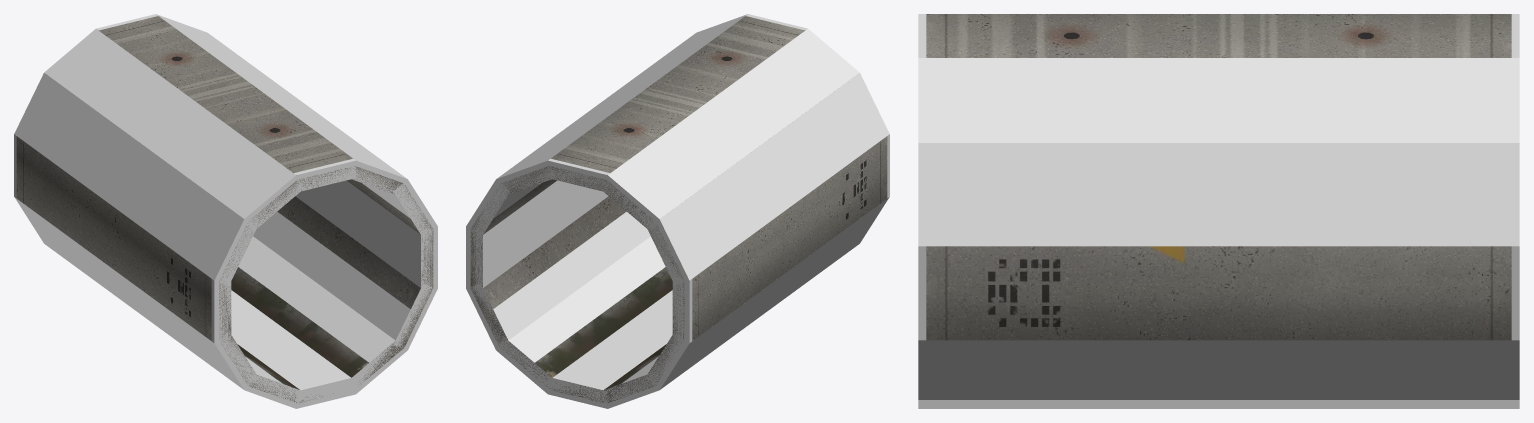
Rendered from Kit_Lot_Pipe_01.glb.
3 views of the same model, side by side, from view 1: azimuth 30°, elevation 25°; view 2: azimuth 150°, elevation 25°; view 3: azimuth 270°, elevation 25° (orthographic). The views are drawn at different scales.
Parts seen in each view (by area): view 1: Kit_Lot_Pipe_01_LOD0, COL_Kit_Lot_Pipe_01_5, COL_Kit_Lot_Pipe_01_4, COL_Kit_Lot_Pipe_01_11, COL_Kit_Lot_Pipe_01_10, COL_Kit_Lot_Pipe_01_0, COL_Kit_Lot_Pipe_01_7, COL_Kit_Lot_Pipe_01_9, COL_Kit_Lot_Pipe_01_2, COL_Kit_Lot_Pipe_01_3, COL_Kit_Lot_Pipe_01_6, COL_Kit_Lot_Pipe_01_1 (+1 smaller); view 2: Kit_Lot_Pipe_01_LOD0, COL_Kit_Lot_Pipe_01_5, COL_Kit_Lot_Pipe_01_4, COL_Kit_Lot_Pipe_01_11, COL_Kit_Lot_Pipe_01_10, COL_Kit_Lot_Pipe_01_0, COL_Kit_Lot_Pipe_01_7, COL_Kit_Lot_Pipe_01_9, COL_Kit_Lot_Pipe_01_2, COL_Kit_Lot_Pipe_01_6, COL_Kit_Lot_Pipe_01_3, COL_Kit_Lot_Pipe_01_1 (+1 smaller); view 3: Kit_Lot_Pipe_01_LOD0, COL_Kit_Lot_Pipe_01_1, COL_Kit_Lot_Pipe_01_2, COL_Kit_Lot_Pipe_01_11, COL_Kit_Lot_Pipe_01_10, COL_Kit_Lot_Pipe_01_0, COL_Kit_Lot_Pipe_01_3.
Part boxes in pixels (left/top/right/bottom): Kit_Lot_Pipe_01_LOD0: left=16, top=16, right=433, bottom=402; COL_Kit_Lot_Pipe_01_5: left=14, top=73, right=258, bottom=285; COL_Kit_Lot_Pipe_01_4: left=44, top=29, right=303, bottom=231; COL_Kit_Lot_Pipe_01_11: left=253, top=211, right=437, bottom=349; COL_Kit_Lot_Pipe_01_10: left=238, top=236, right=407, bottom=393; COL_Kit_Lot_Pipe_01_0: left=295, top=180, right=437, bottom=292; COL_Kit_Lot_Pipe_01_7: left=14, top=197, right=258, bottom=390; COL_Kit_Lot_Pipe_01_9: left=231, top=290, right=355, bottom=408; COL_Kit_Lot_Pipe_01_2: left=156, top=14, right=407, bottom=194; COL_Kit_Lot_Pipe_01_3: left=96, top=14, right=355, bottom=192; COL_Kit_Lot_Pipe_01_6: left=14, top=134, right=231, bottom=343; COL_Kit_Lot_Pipe_01_1: left=362, top=179, right=437, bottom=237; Kit_Lot_Pipe_01_LOD0: left=470, top=16, right=887, bottom=402; COL_Kit_Lot_Pipe_01_5: left=645, top=73, right=889, bottom=285; COL_Kit_Lot_Pipe_01_4: left=600, top=29, right=859, bottom=231; COL_Kit_Lot_Pipe_01_11: left=466, top=211, right=650, bottom=349; COL_Kit_Lot_Pipe_01_10: left=496, top=236, right=665, bottom=393; COL_Kit_Lot_Pipe_01_0: left=466, top=180, right=608, bottom=292; COL_Kit_Lot_Pipe_01_7: left=645, top=197, right=889, bottom=389; COL_Kit_Lot_Pipe_01_9: left=548, top=290, right=672, bottom=408; COL_Kit_Lot_Pipe_01_2: left=496, top=14, right=747, bottom=194; COL_Kit_Lot_Pipe_01_6: left=672, top=134, right=889, bottom=343; COL_Kit_Lot_Pipe_01_3: left=548, top=14, right=807, bottom=192; COL_Kit_Lot_Pipe_01_1: left=466, top=179, right=541, bottom=237; Kit_Lot_Pipe_01_LOD0: left=926, top=14, right=1511, bottom=340; COL_Kit_Lot_Pipe_01_1: left=918, top=143, right=1519, bottom=246; COL_Kit_Lot_Pipe_01_2: left=918, top=58, right=1519, bottom=142; COL_Kit_Lot_Pipe_01_11: left=918, top=340, right=1519, bottom=399; COL_Kit_Lot_Pipe_01_10: left=918, top=400, right=1519, bottom=408; COL_Kit_Lot_Pipe_01_0: left=918, top=246, right=1519, bottom=340; COL_Kit_Lot_Pipe_01_3: left=918, top=14, right=1519, bottom=57.
Size of what is drawn, in the model's own units: 5.8 by 5.8 by 9.
1 material, 1 textured.
